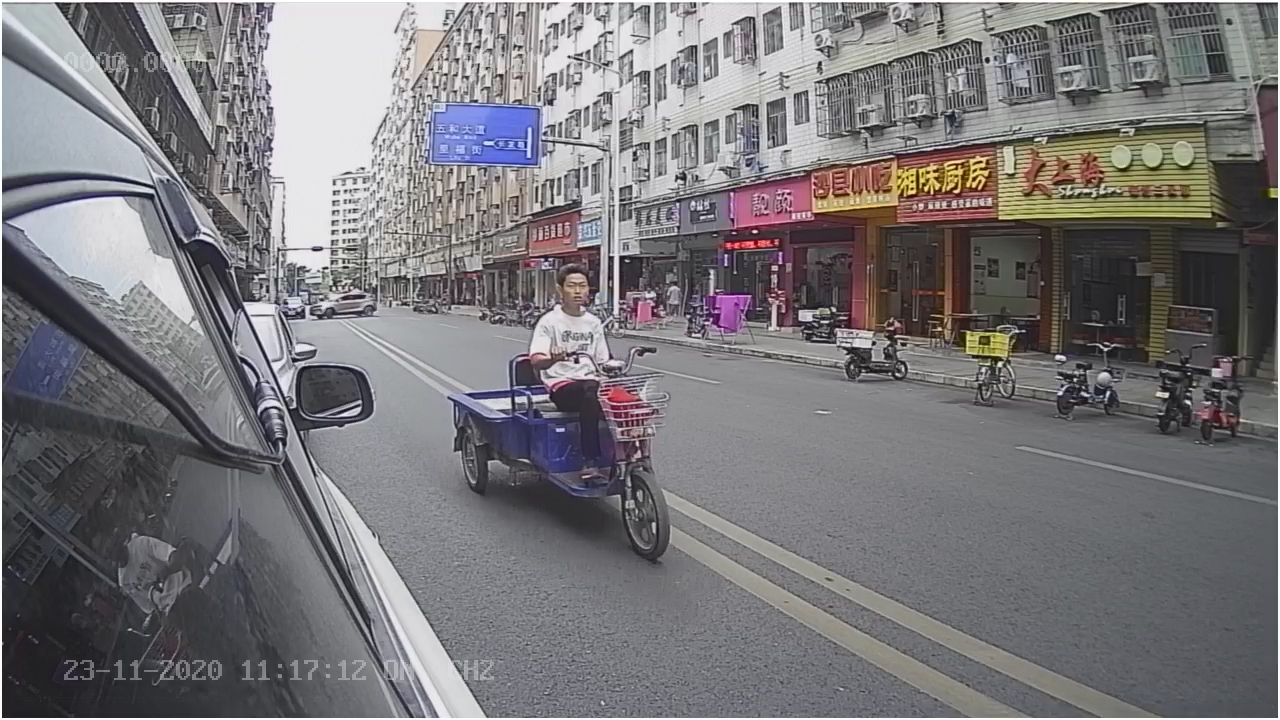person: (520, 262, 621, 354)
